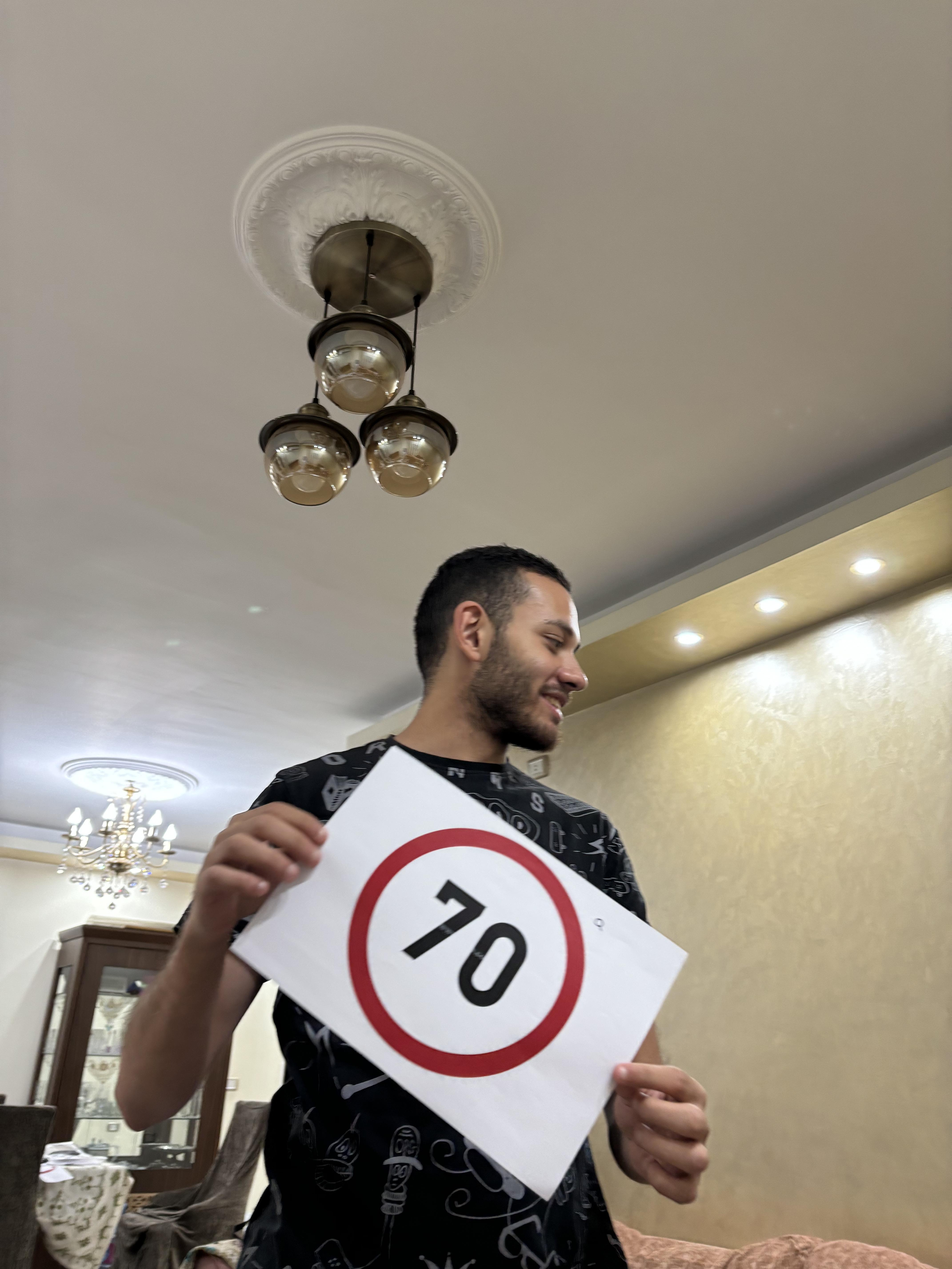70-Speed: (343, 816, 596, 1089)
